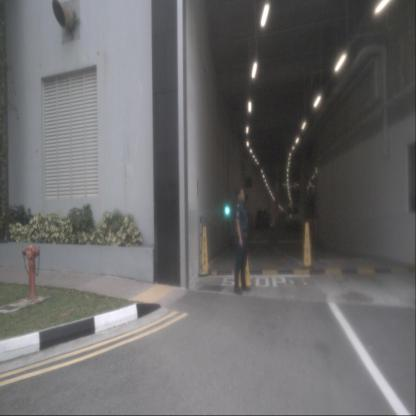cone: (236, 231, 252, 286), (199, 226, 211, 276), (302, 222, 314, 270)
